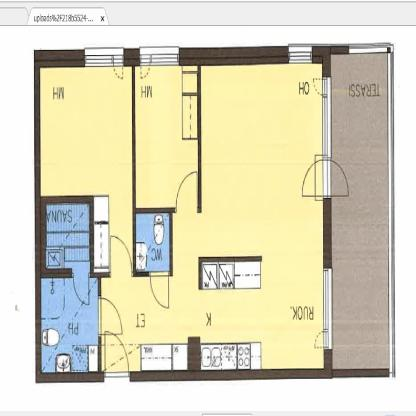door: (298, 158, 351, 207), (174, 167, 200, 216), (105, 330, 129, 378), (109, 231, 132, 279), (96, 297, 124, 335), (150, 270, 171, 316), (72, 267, 90, 305), (311, 78, 328, 100), (313, 332, 330, 349), (141, 58, 151, 80), (113, 57, 122, 81)
window: (322, 268, 334, 351), (85, 45, 124, 66), (321, 78, 330, 158), (139, 47, 180, 64), (290, 48, 314, 67)
zone: (40, 68, 323, 367), (330, 52, 390, 369), (136, 68, 198, 207), (39, 278, 98, 368), (45, 204, 89, 270)
